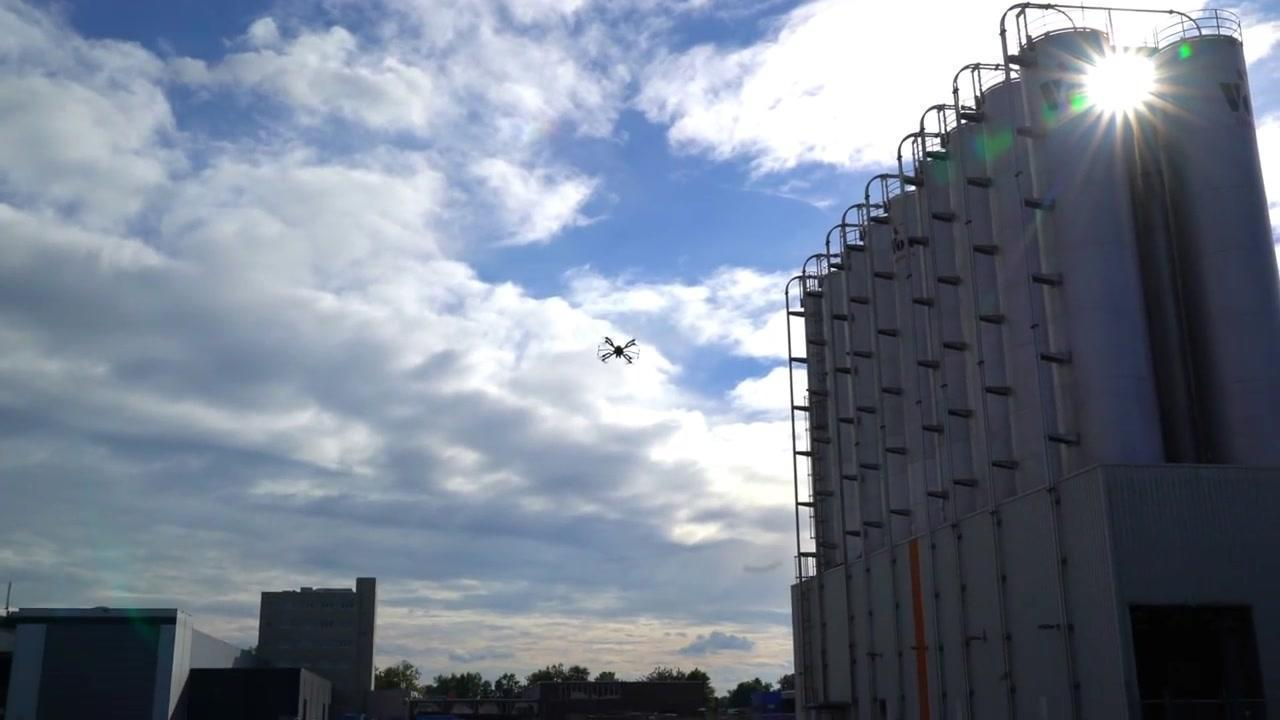UAV: (598, 337, 641, 365)
